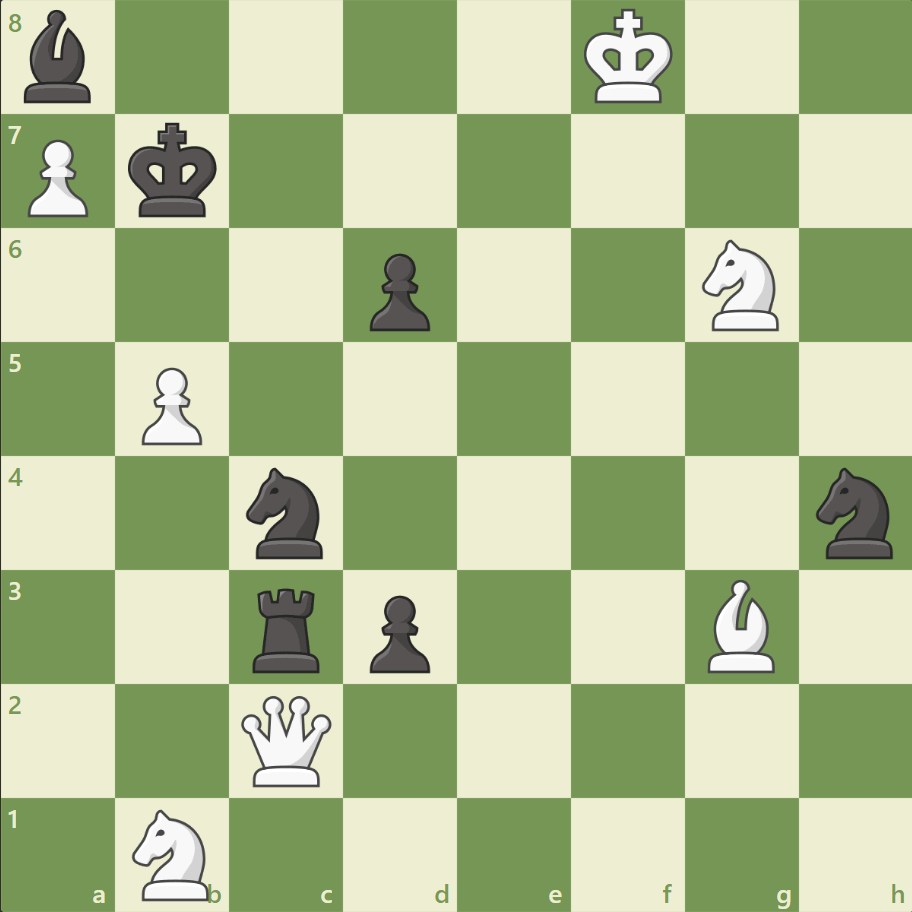B: (698, 574, 782, 676)
K: (579, 4, 679, 112)
N: (124, 802, 222, 904), (692, 234, 789, 337)
P: (20, 132, 95, 223), (133, 359, 208, 450)
Q: (237, 690, 336, 789)
b: (17, 6, 101, 109)
k: (124, 117, 224, 225)
n: (238, 461, 335, 564), (806, 461, 903, 564)
p: (361, 246, 435, 337), (361, 586, 435, 677)
r: (246, 579, 329, 676)
